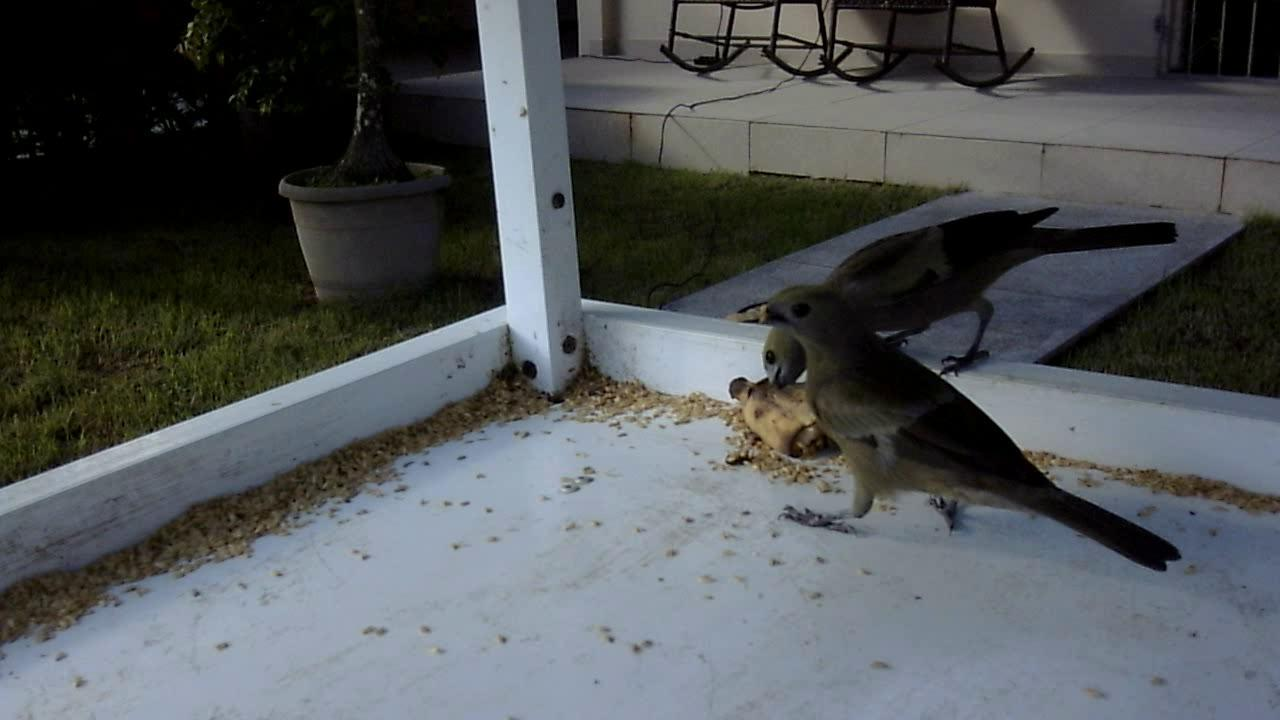sanhaco_do_coqueiro: (740, 281, 1197, 584), (755, 205, 1196, 392)
